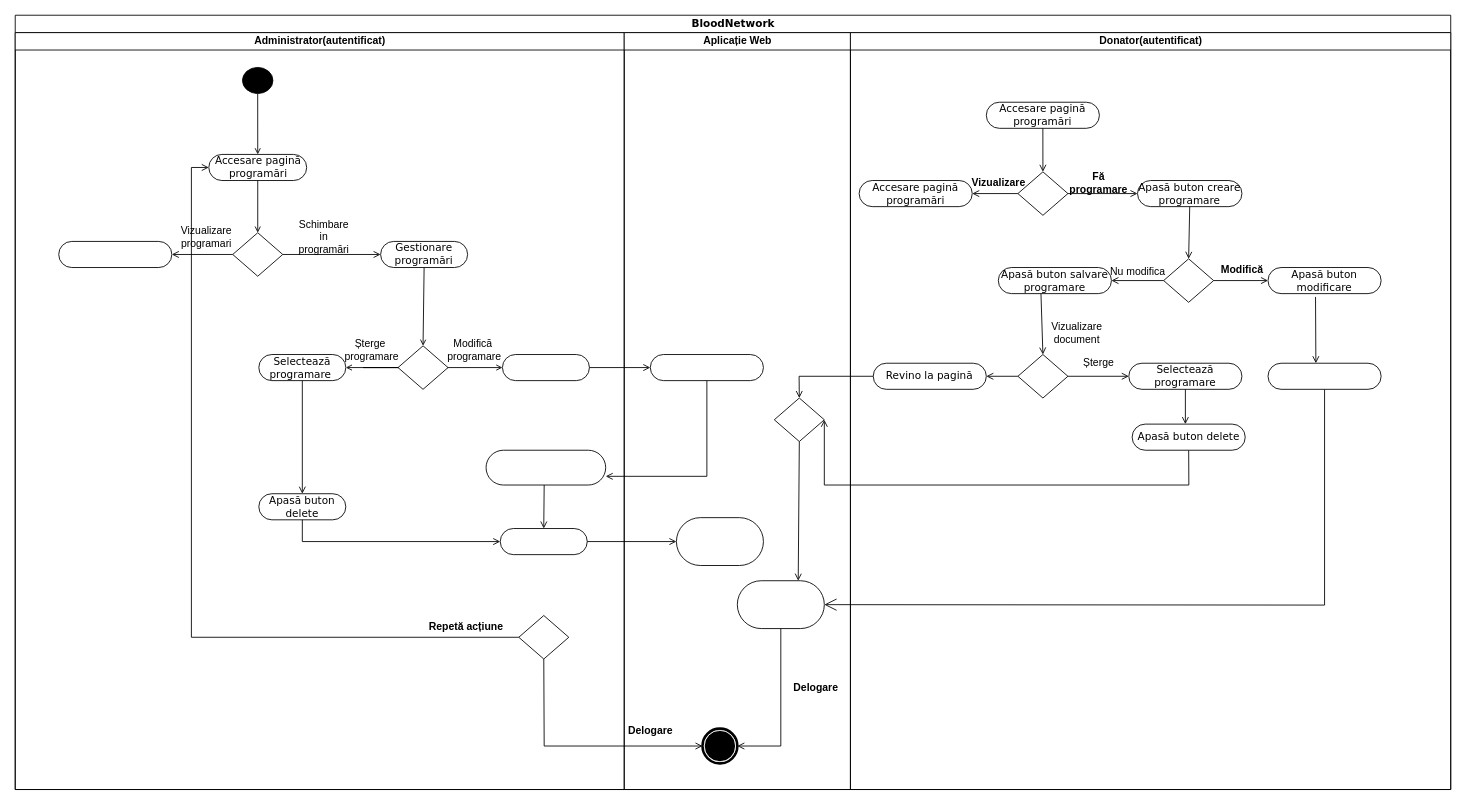
This 1466x805 diagram has some shape labels left out. Here are the shapes that lost their labels. From the top down, the centre of each, then its label:
the point at 115,254: Apasă buton pentru vizualizare detalii
the point at 545,367: Apasă butonul edit
the point at 706,367: Afiseaza pagina modificare
the point at 1324,375: Apasă buton salvare modificare
the point at 545,467: Completare cu date noi și adăugare modificare
the point at 543,541: Apasă buton salvare
the point at 719,541: Afisare toate programarile cu actualizare facuta
the point at 780,604: Afisare programare personală
